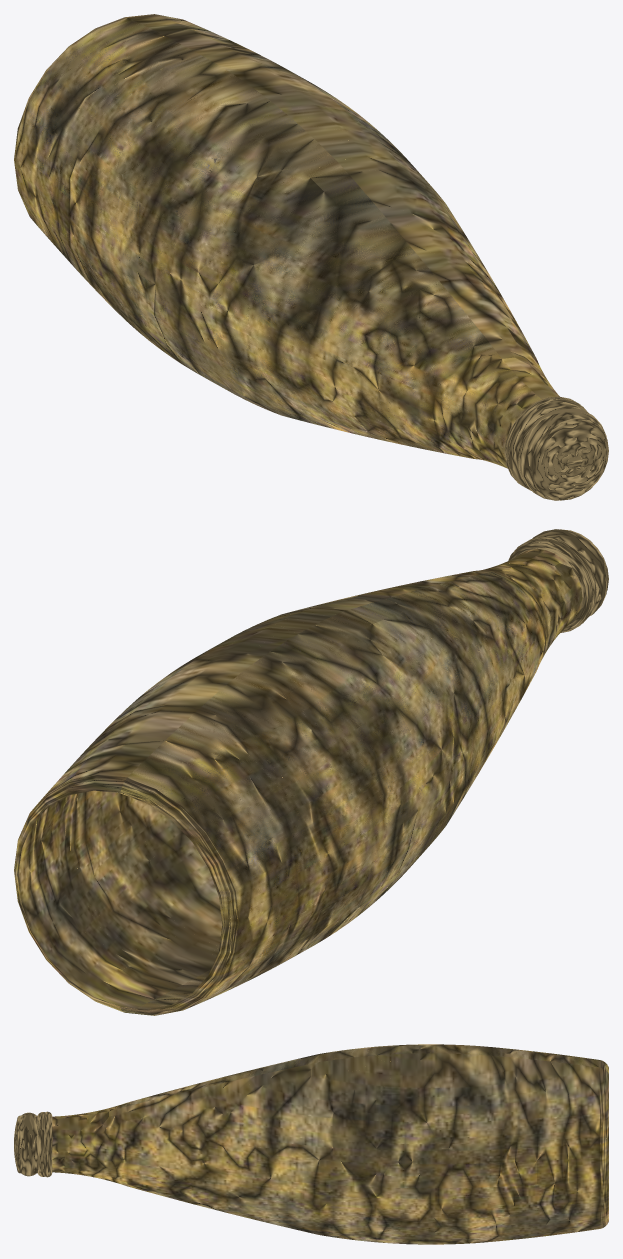
The model's file is model_align.obj.
3 renders of one model, top to bottom at view 1: azimuth 30°, elevation 25°; view 2: azimuth 150°, elevation 25°; view 3: azimuth 270°, elevation 25°, orthographic. The views are drawn at different scales.
Bounding box in the file's own units: 0.0806 × 0.0806 × 0.2386.
